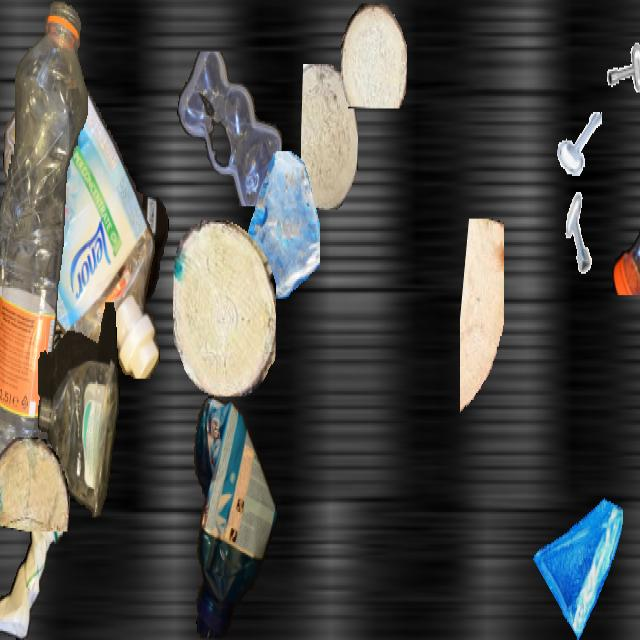glass: (532, 478, 622, 638), (237, 151, 319, 297)
metal: (595, 4, 640, 103), (558, 192, 604, 274), (557, 105, 601, 183)
plastic: (2, 71, 162, 377), (0, 197, 169, 439), (0, 2, 87, 471), (188, 393, 276, 638), (38, 302, 120, 519), (177, 52, 283, 205), (0, 489, 62, 638), (610, 160, 640, 295)
wood: (173, 220, 275, 394), (460, 219, 504, 425), (301, 64, 357, 210), (341, 3, 407, 106), (0, 437, 70, 530)
